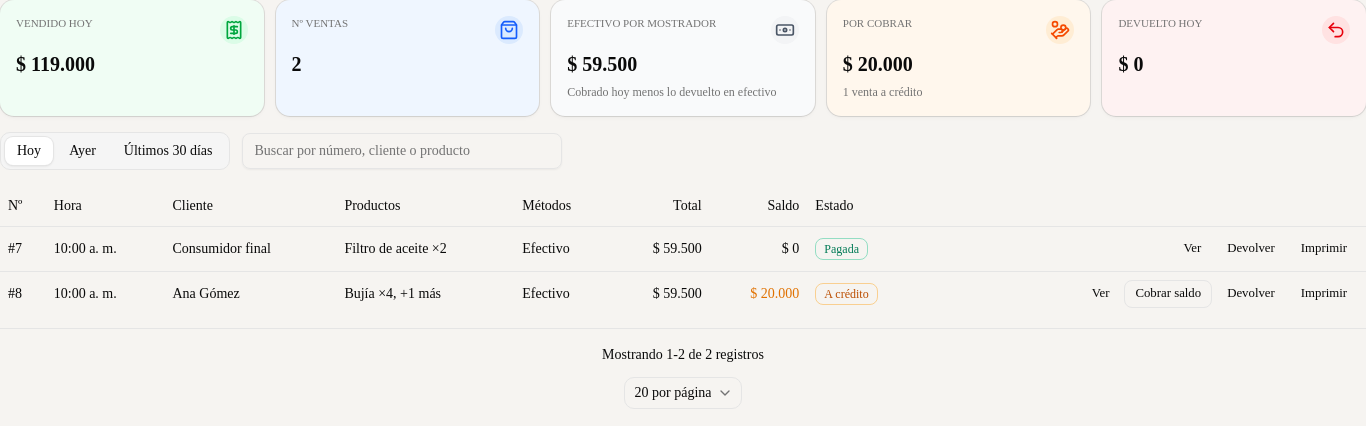
Test case: PanelVentas › busca por número, cliente o producto
In the search field named "Buscar ventas": (402, 151) x1=242 y1=133 x2=562 y2=169, type "aceite 20"
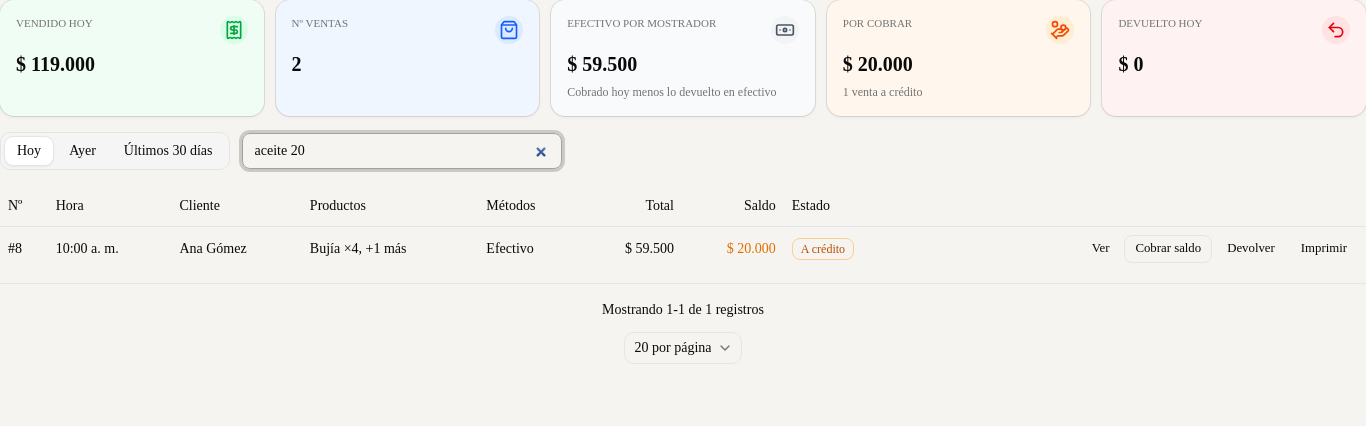
Expected: the row "#8" is shown, x1=0 y1=226 x2=1365 y2=270
Expected: the text "#7" is gone
Replace the text in the search field named "Buscar ventas" with "#7": (402, 151) x1=242 y1=133 x2=562 y2=169
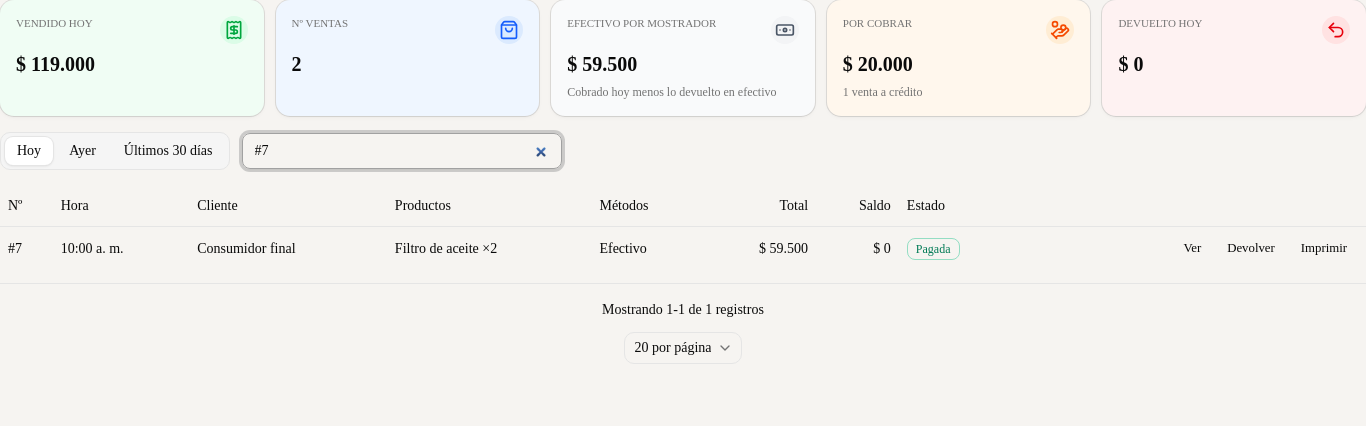
Expected: the text "#8" is not shown
Expected: the row "#7" is shown, x1=0 y1=226 x2=1365 y2=270
Replace the text in the search field named "Buscar ventas" with "ana": (402, 151) x1=242 y1=133 x2=562 y2=169
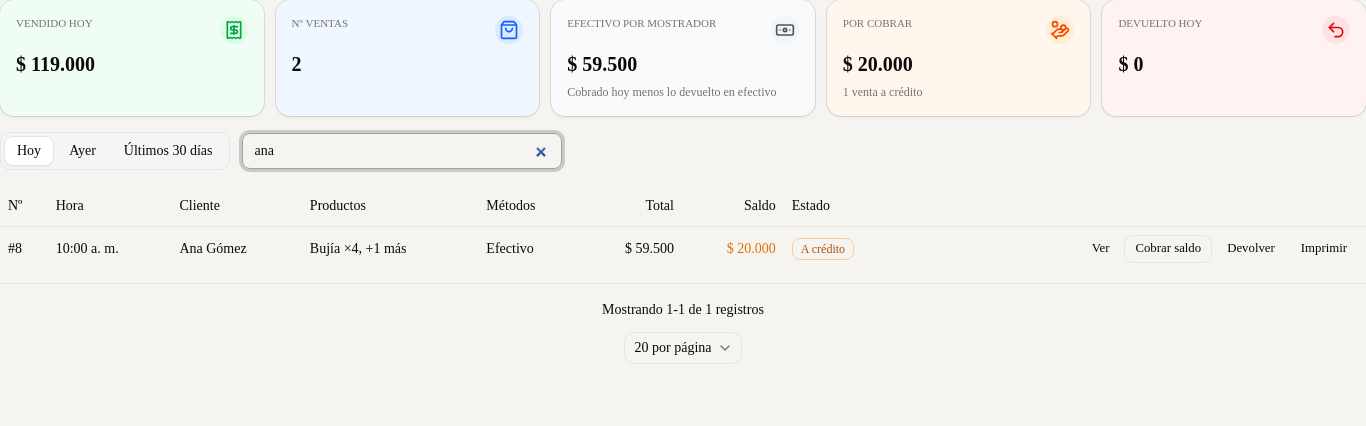
Expected: the row "#8" is shown, x1=0 y1=226 x2=1365 y2=270
Expected: the text "#7" is gone
